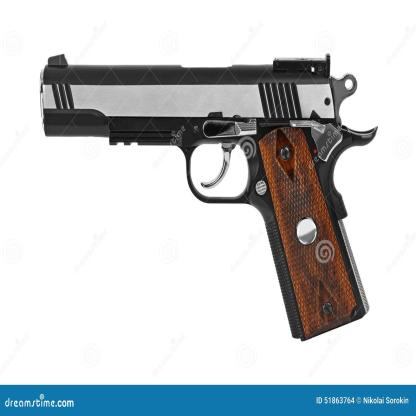handgun: (40, 51, 379, 344)
